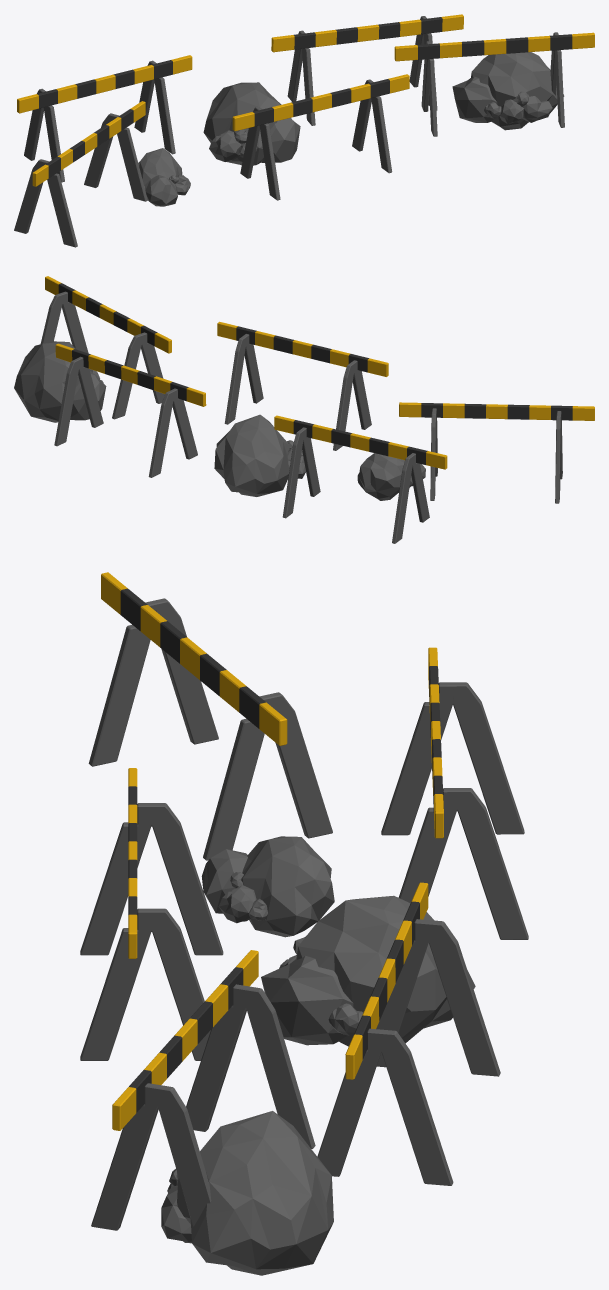
File: obstacle-2.fbx
3 renders of one model, top to bottom at view 1: azimuth 30°, elevation 25°; view 2: azimuth 150°, elevation 25°; view 3: azimuth 270°, elevation 25°, orthographic. The views are drawn at different scales.
Parts seen in each view (by area): view 1: Icosphere.017; view 2: Icosphere.017; view 3: Icosphere.017.
Part boxes in pixels (box(x1,y1,x2,y2)): Icosphere.017: box(14, 14, 594, 247); Icosphere.017: box(14, 276, 594, 543); Icosphere.017: box(80, 572, 528, 1275).
Bounding box in the file's own units: 89.14 × 16.23 × 31.67.
